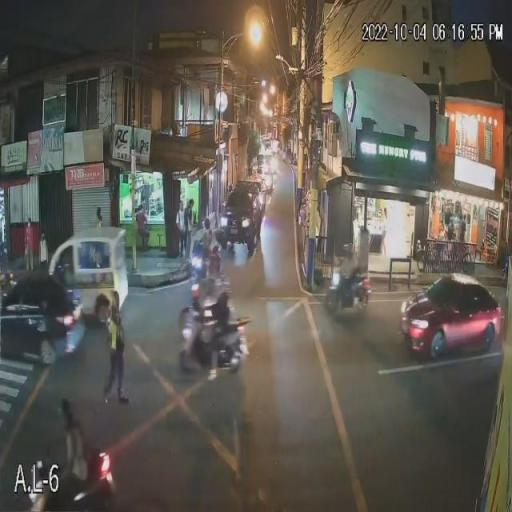helmet: (207, 276, 224, 290)
motorcycle: (32, 446, 118, 512), (178, 301, 250, 376), (324, 266, 373, 320), (190, 256, 223, 309), (201, 215, 225, 258)
rider: (201, 273, 234, 374), (60, 398, 90, 484), (335, 246, 362, 306), (186, 218, 207, 270), (204, 234, 222, 284)
